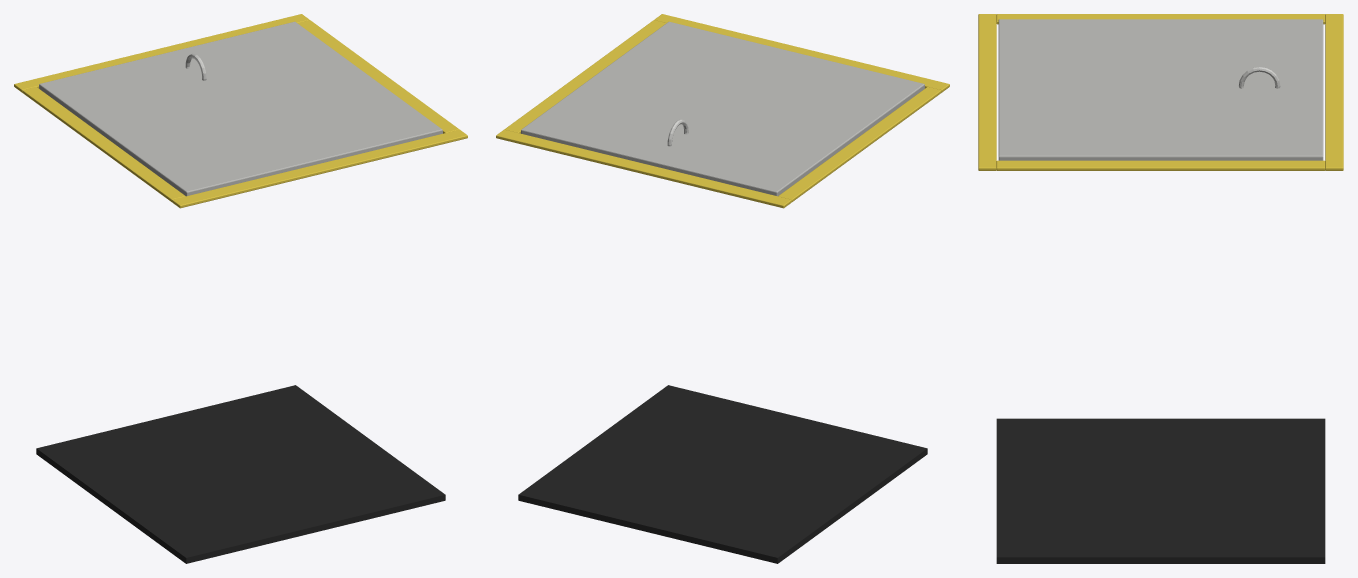
File: hatch.glb
3 views of the same model, side by side, from view 1: azimuth 30°, elevation 25°; view 2: azimuth 150°, elevation 25°; view 3: azimuth 270°, elevation 25° (orthographic). The views are drawn at different scales.
Visible parts, largest first — view 1: HatchFrame, Lid; view 2: HatchFrame, Lid; view 3: HatchFrame, Lid.
Part boxes in pixels (box(x1,y1,x2,y2)): HatchFrame: box(14, 14, 467, 563); Lid: box(39, 21, 442, 196); HatchFrame: box(496, 14, 949, 563); Lid: box(521, 21, 924, 196); HatchFrame: box(978, 14, 1343, 563); Lid: box(998, 19, 1323, 160).
Bounding box in the file's own units: 1 × 1.29 × 1.
